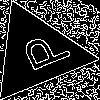P: (12, 28, 73, 77)
